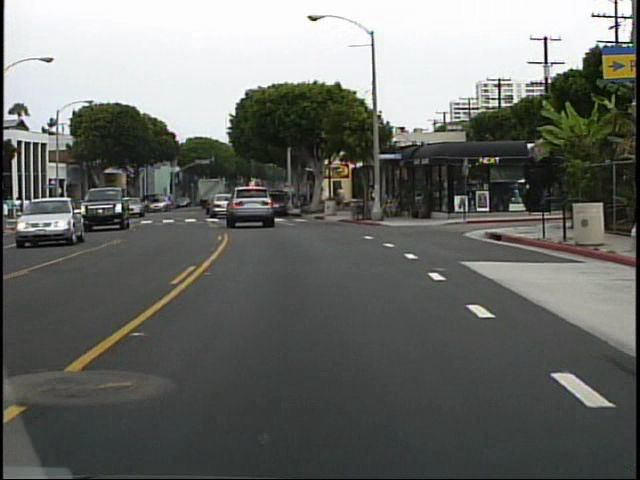person: (362, 186, 379, 219)
